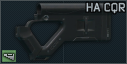AR-15 Hera Arms CQR pistol grip-stock: (0, 0, 127, 64)
